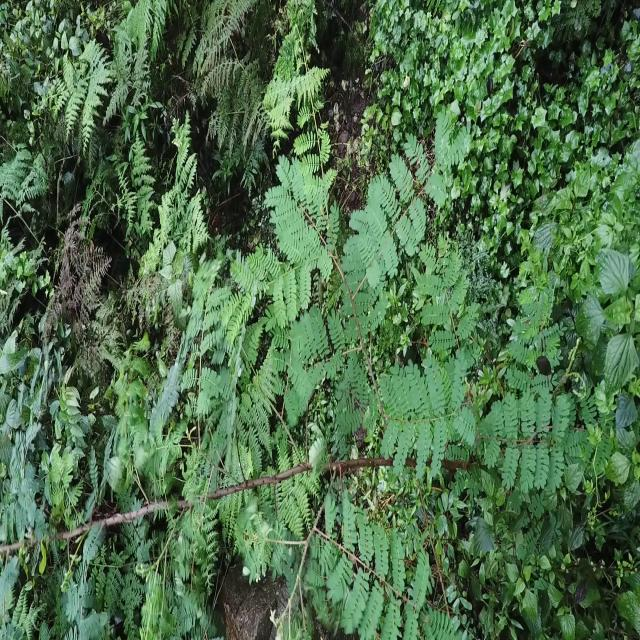Mysore-Thorn-Weed: (169, 96, 601, 640), (0, 390, 164, 640)
